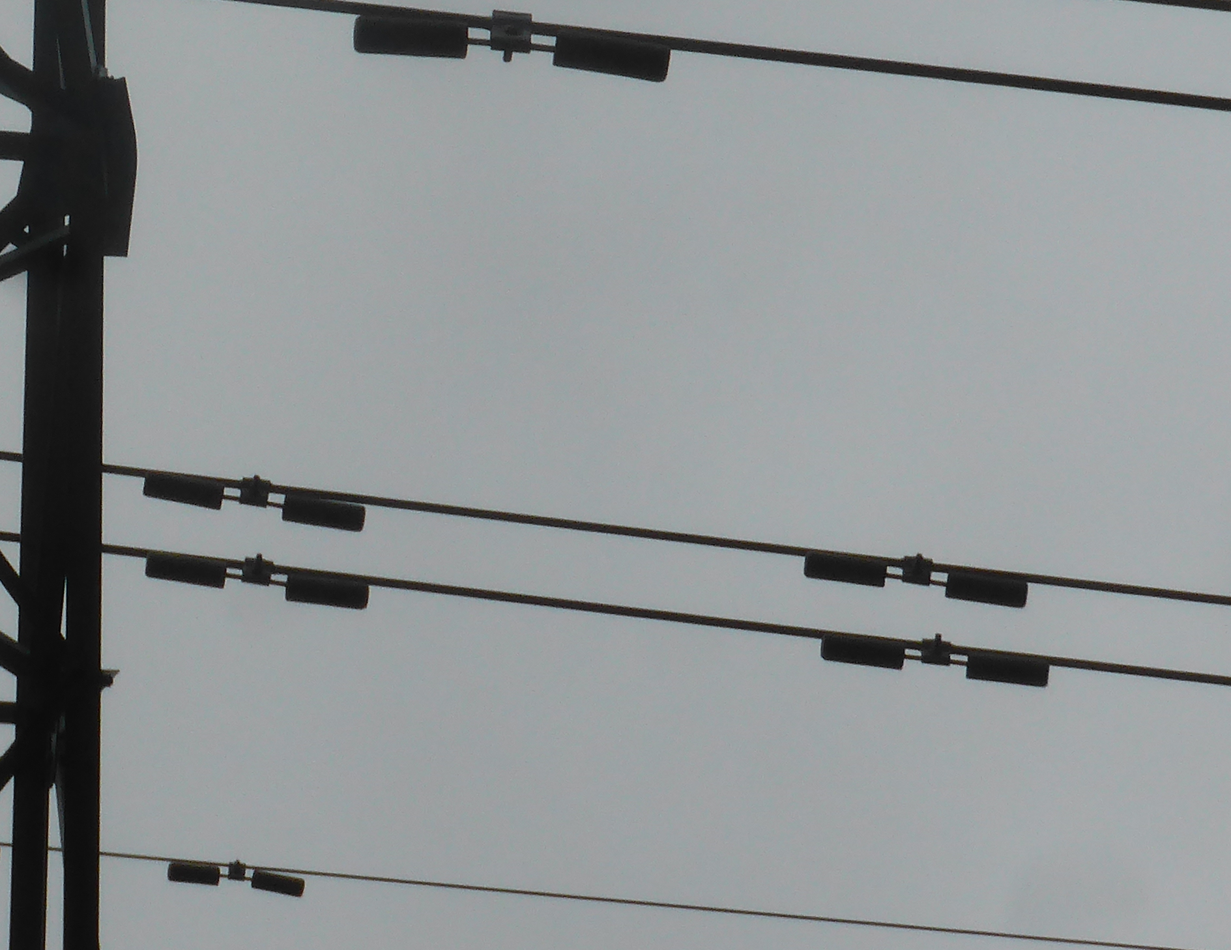damper: (352, 6, 676, 89), (139, 469, 369, 537), (798, 545, 1031, 611), (143, 547, 371, 613), (818, 629, 1052, 690), (164, 858, 306, 899)
